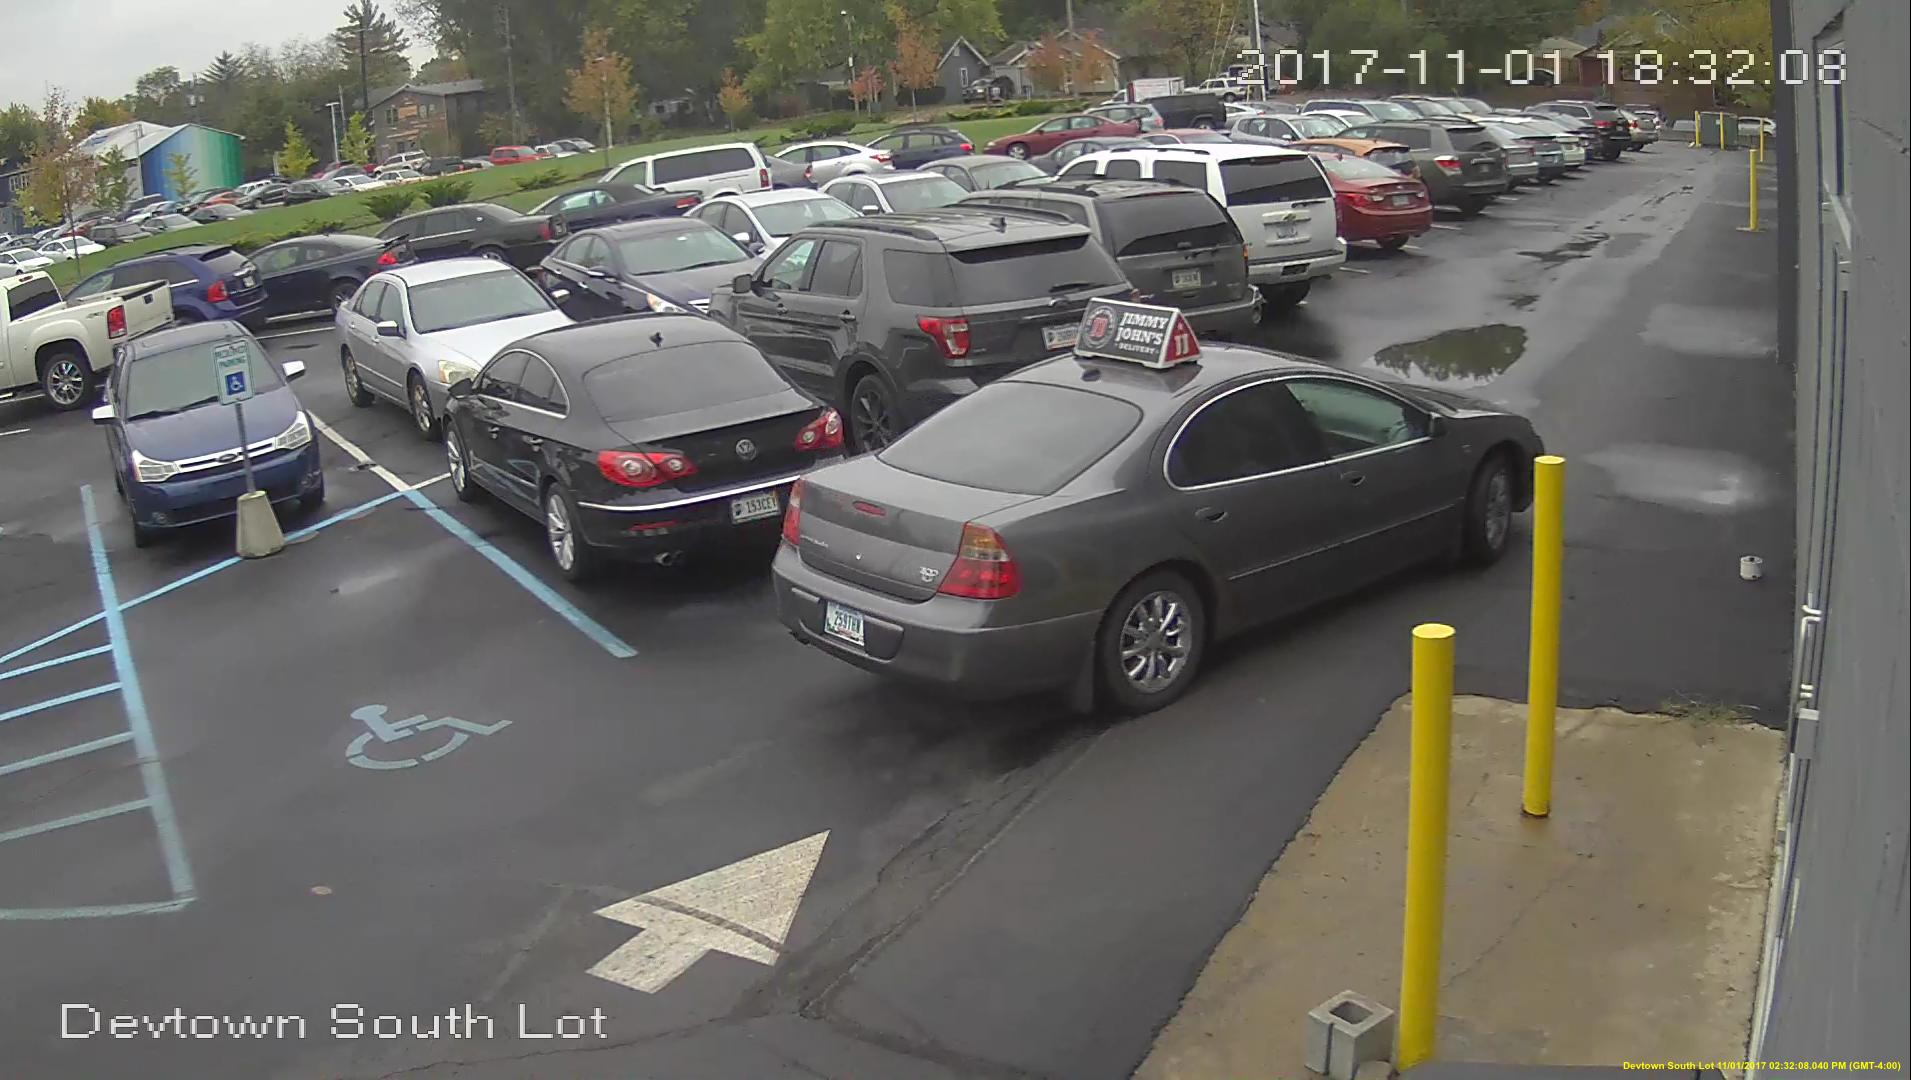jimmy_johns: (1074, 297, 1207, 371)
